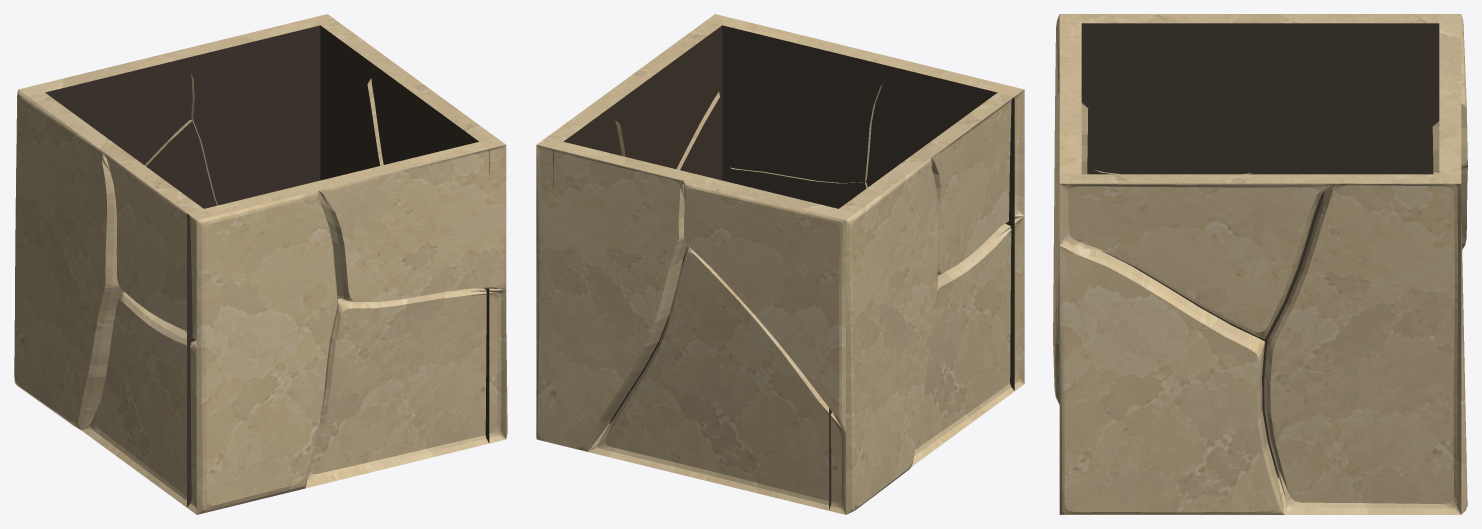
File: ground_island_03.glb
3 views of the same model, side by side, from view 1: azimuth 30°, elevation 25°; view 2: azimuth 150°, elevation 25°; view 3: azimuth 270°, elevation 25° (orthographic). The views are drawn at different scales.
Parts seen in each view (by area): view 1: GroundIsland03_Body; view 2: GroundIsland03_Body; view 3: GroundIsland03_Body.
Part boxes in pixels (x1,y1,x2,y2): GroundIsland03_Body: (14, 14, 507, 514); GroundIsland03_Body: (536, 14, 1024, 514); GroundIsland03_Body: (1053, 14, 1467, 514).
Size of the model in its own units: 1.03 by 0.91 by 1.03.
Materials: 14 (13 with a texture image).
